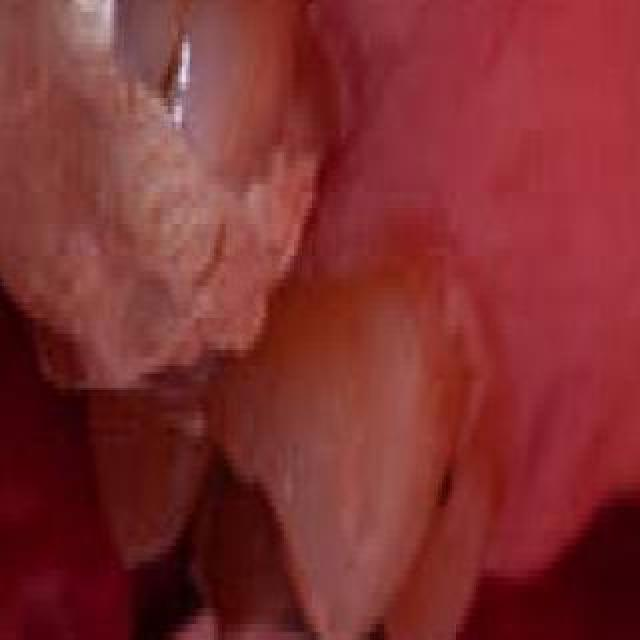cavities: (82, 426, 366, 640), (383, 386, 491, 624)
